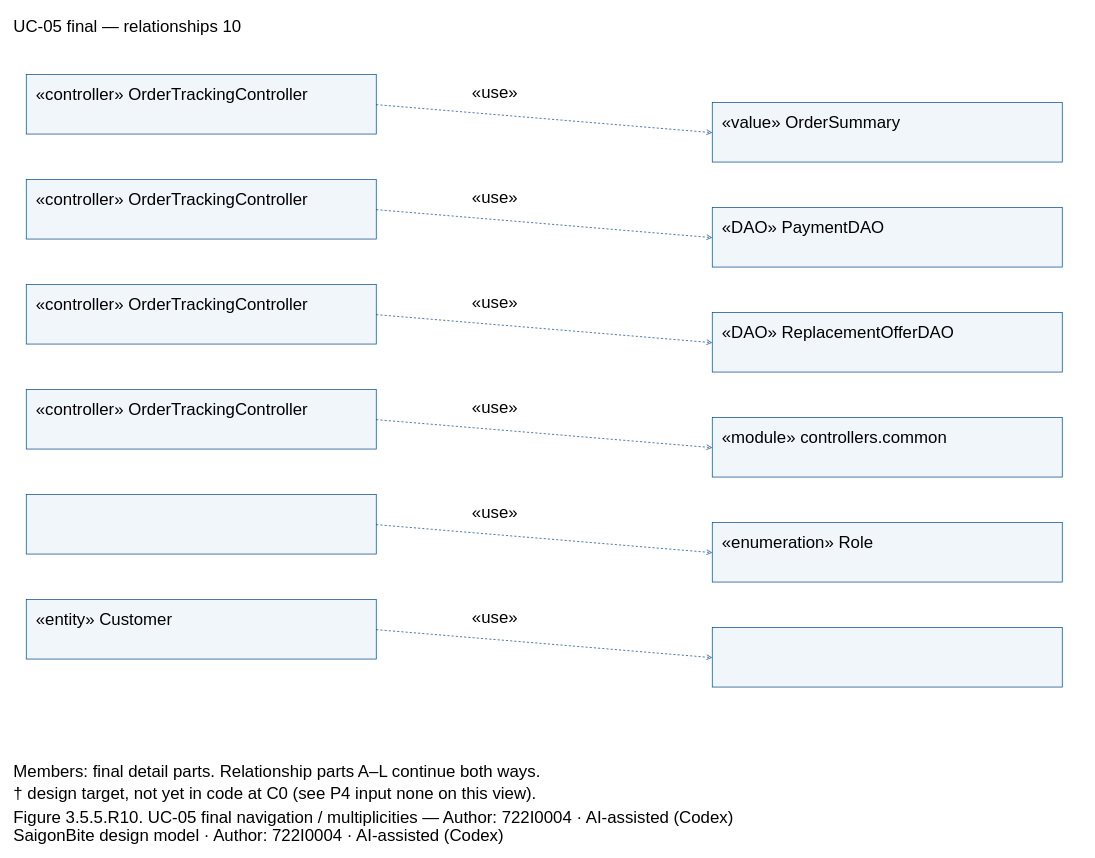
This 1095x858 diagram has some shape labels left out. The centre of each missing label's shape, as x and y in pixels:
"«entity» UserAccount" goes at (201,524).
"«enumeration» CustomerType" goes at (887,657).
